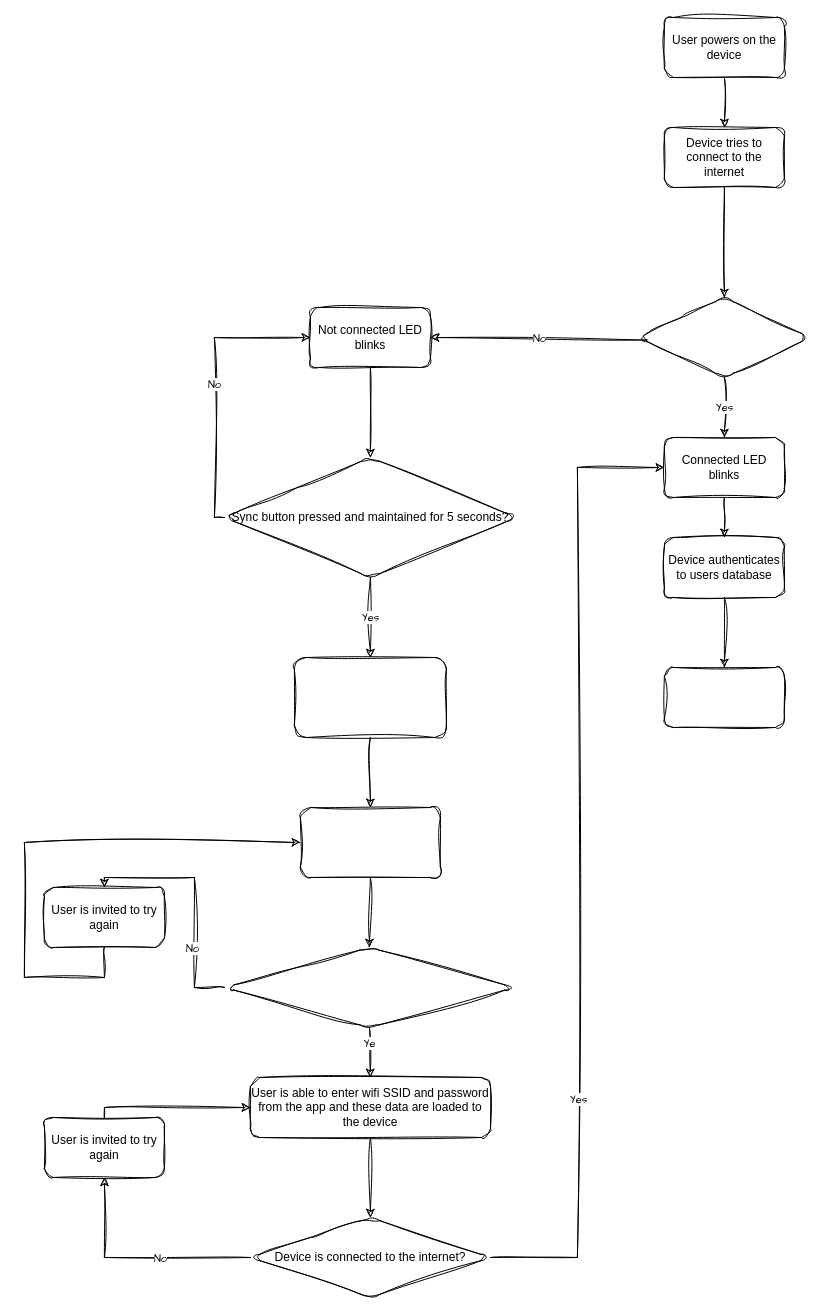
Image size: 828x1315. Some labels were removed from this diagram. Each missing label, with the centre of its shape:
"Connected to internet?" belongs at point (723, 337).
"Device sends data" belongs at point (723, 697).
"Device successfully connected to the phone via bluetooth?" belongs at point (368, 987).
"Sync LED blinking" belongs at point (369, 697).
"User syncs bluetooth from the app" belongs at point (369, 842).
